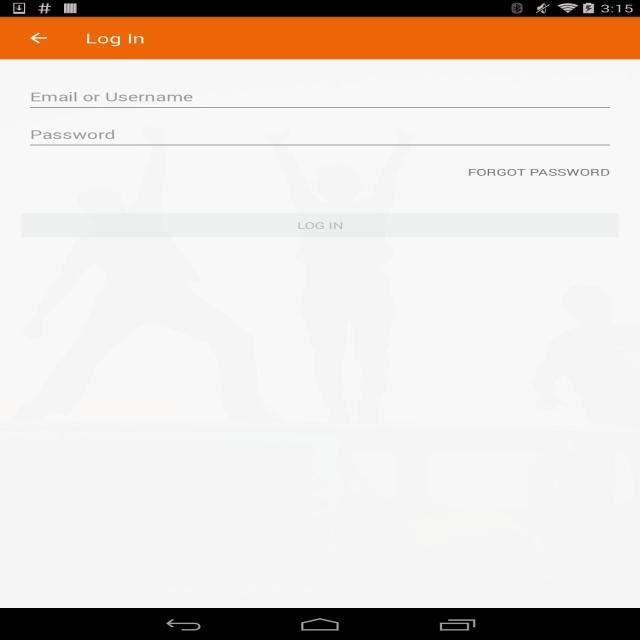button: (23, 214, 617, 239), (15, 25, 61, 53)
field: (26, 113, 610, 146), (27, 80, 611, 107)
label: (29, 91, 195, 102), (31, 128, 119, 140)
link: (464, 167, 613, 179)
